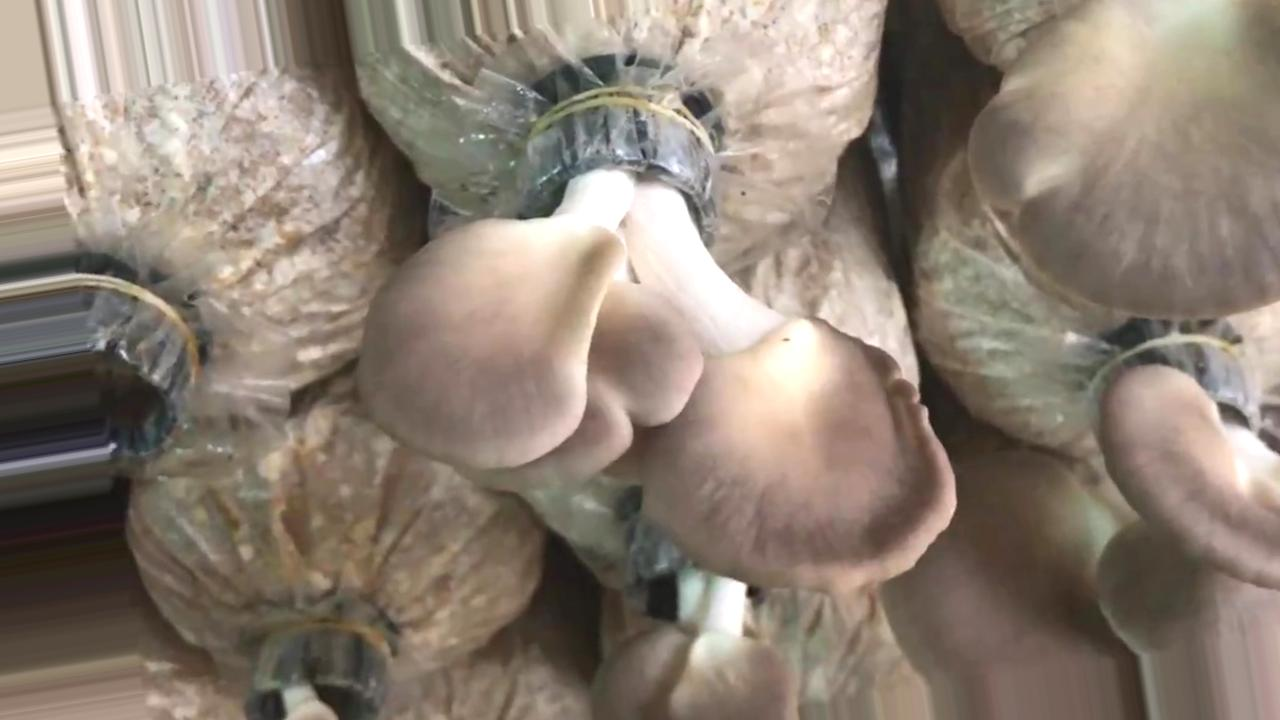nam: (365, 93, 956, 588), (882, 325, 1279, 716), (971, 3, 1280, 316), (598, 512, 798, 720)
